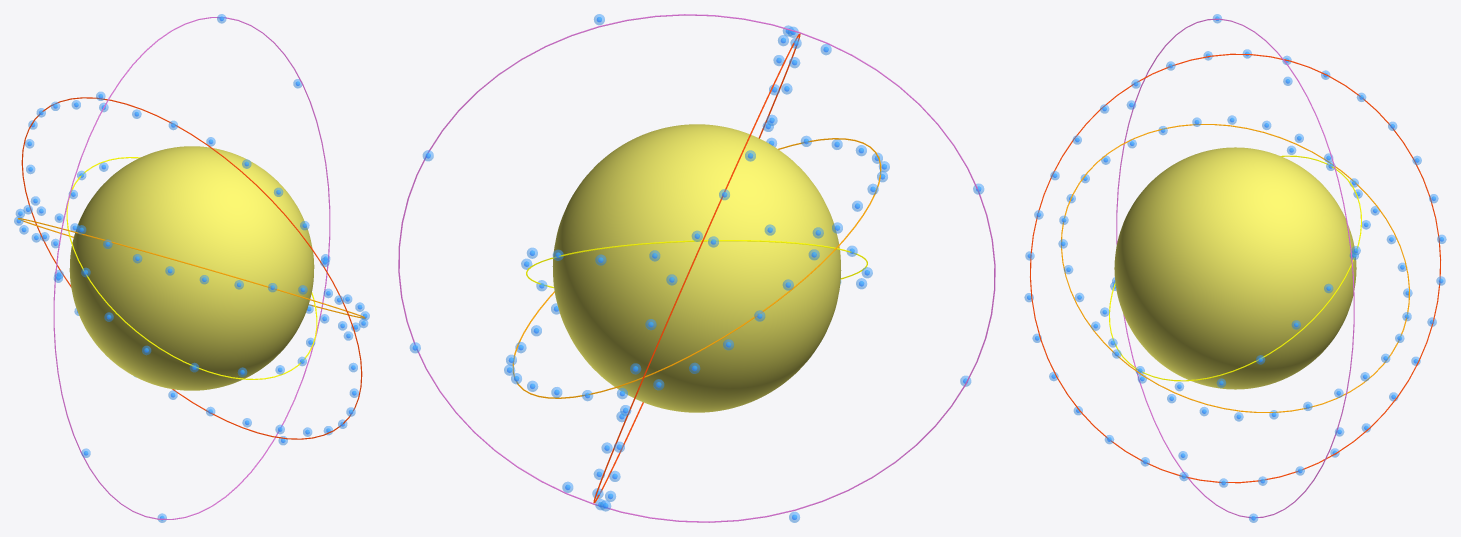
3 views of the same model, side by side, from view 1: azimuth 30°, elevation 25°; view 2: azimuth 150°, elevation 25°; view 3: azimuth 270°, elevation 25° (orthographic). The views are drawn at different scales.
Visible parts, largest first — view 1: Fm, object 191, object 126, object 61, object 24; view 2: Fm, object 191, object 126, object 61, object 24; view 3: Fm, object 126, object 191, object 61, object 24.
Boxes of the visible parts, x1,y1,x2,y2 form: Fm: (69,146,314,390); object 191: (53,17,330,519); object 126: (21,97,362,439); object 61: (17,218,365,318); object 24: (66,157,317,379); Fm: (552,124,841,412); object 191: (398,14,995,522); object 126: (593,33,800,503); object 61: (512,138,881,398); object 24: (526,240,867,288); Fm: (1114,147,1356,389); object 126: (1030,53,1440,483); object 191: (1116,18,1354,518); object 61: (1061,124,1409,412); object 24: (1109,155,1361,381).
Size of the model in its own units: 7.48 by 8.36 by 7.08.
